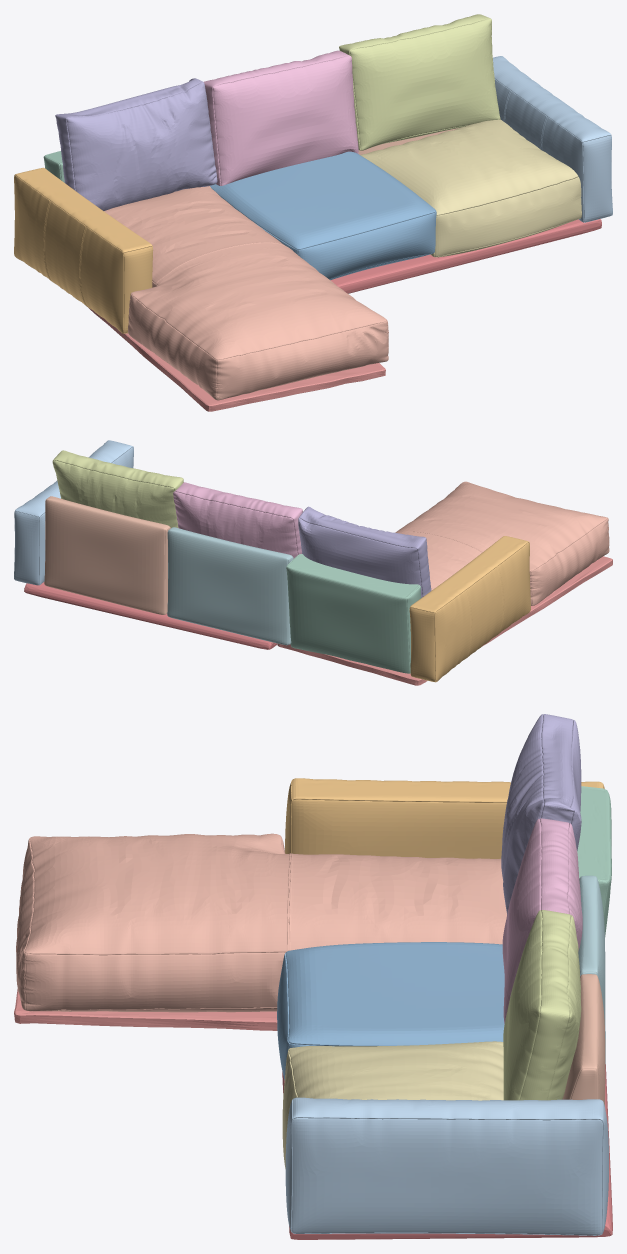
Rendered from 56117_assembly.glb.
3 views of the same model, one above another, from view 1: azimuth 30°, elevation 25°; view 2: azimuth 150°, elevation 25°; view 3: azimuth 270°, elevation 25° (orthographic). The views are drawn at different scales.
Visible parts, largest first — view 1: part_02, part_06, part_11, part_07, part_12, part_05, part_03, part_10, part_00, part_01; view 2: part_02, part_04, part_08, part_09, part_03, part_12, part_05, part_07, part_10, part_00, part_01; view 3: part_02, part_10, part_11, part_03, part_06, part_07, part_12, part_05, part_01, part_04, part_08, part_09 (+1 smaller).
Boxes of the visible parts, x1=… form: part_02: x1=104, y1=186, x2=388, y2=400; part_06: x1=360, y1=119, x2=581, y2=257; part_11: x1=210, y1=151, x2=436, y2=280; part_07: x1=339, y1=14, x2=500, y2=150; part_12: x1=55, y1=78, x2=217, y2=210; part_05: x1=204, y1=50, x2=358, y2=185; part_03: x1=14, y1=167, x2=153, y2=333; part_10: x1=493, y1=56, x2=612, y2=222; part_00: x1=331, y1=219, x2=601, y2=293; part_01: x1=88, y1=307, x2=385, y2=411; part_02: x1=395, y1=481, x2=609, y2=605; part_04: x1=44, y1=496, x2=170, y2=614; part_08: x1=286, y1=554, x2=421, y2=673; part_09: x1=167, y1=527, x2=293, y2=645; part_03: x1=409, y1=536, x2=530, y2=682; part_12: x1=298, y1=506, x2=431, y2=597; part_05: x1=173, y1=482, x2=302, y2=558; part_07: x1=52, y1=450, x2=183, y2=527; part_10: x1=14, y1=440, x2=133, y2=585; part_00: x1=24, y1=582, x2=277, y2=649; part_01: x1=277, y1=556, x2=612, y2=685; part_02: x1=16, y1=833, x2=506, y2=1012; part_10: x1=285, y1=1097, x2=608, y2=1235; part_11: x1=277, y1=942, x2=504, y2=1080; part_03: x1=285, y1=778, x2=604, y2=858; part_06: x1=282, y1=1041, x2=503, y2=1168; part_07: x1=503, y1=910, x2=581, y2=1100; part_12: x1=501, y1=714, x2=581, y2=914; part_05: x1=502, y1=818, x2=582, y2=1023; part_01: x1=14, y1=989, x2=277, y2=1030; part_04: x1=562, y1=974, x2=605, y2=1106; part_08: x1=577, y1=786, x2=611, y2=936; part_09: x1=578, y1=875, x2=605, y2=1063.
Size of the model in its own units: 1.42 by 0.4324 by 1.04.
